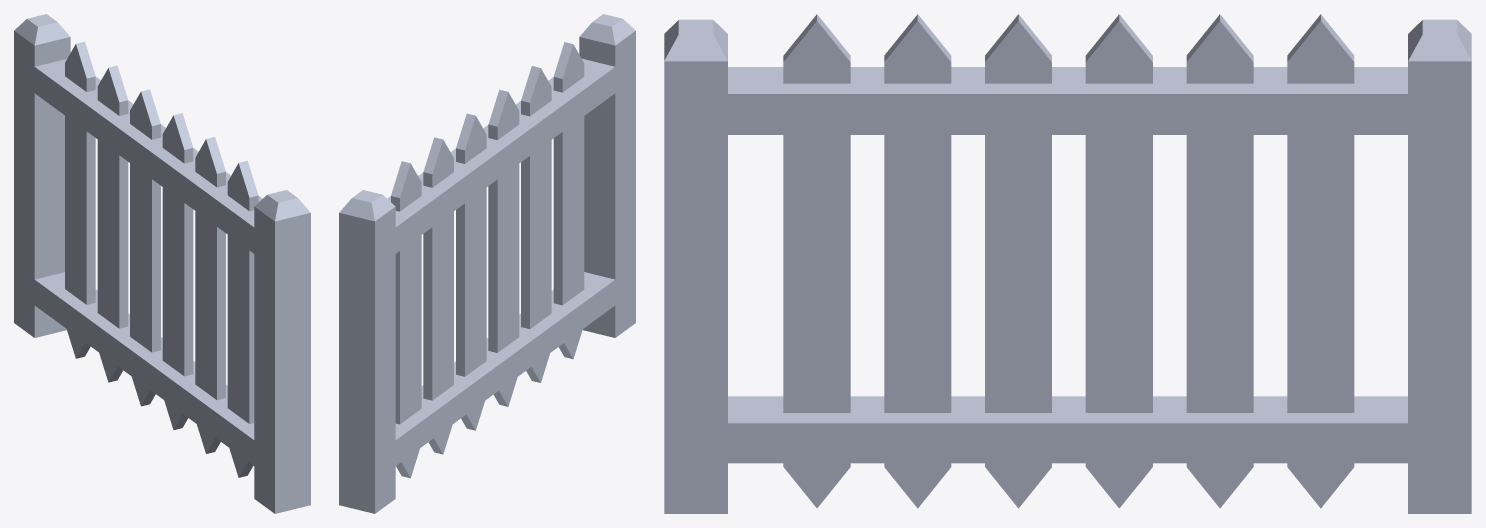
Rendered from IsometricTile_Light_Obstacle_2.fbx.
The picture shows the model from 3 angles, left to right: view 1: azimuth 30°, elevation 25°; view 2: azimuth 150°, elevation 25°; view 3: azimuth 270°, elevation 25°; orthographic projection. The views are drawn at different scales.
Parts seen in each view (by area): view 1: Cube.042; view 2: Cube.042; view 3: Cube.042.
Boxes of the visible parts, <box> form: Cube.042: <box>14,14,310,513</box>; Cube.042: <box>339,14,635,513</box>; Cube.042: <box>664,14,1471,513</box>.
Size of the model in its own units: 0.0761 by 0.9566 by 0.6376.
